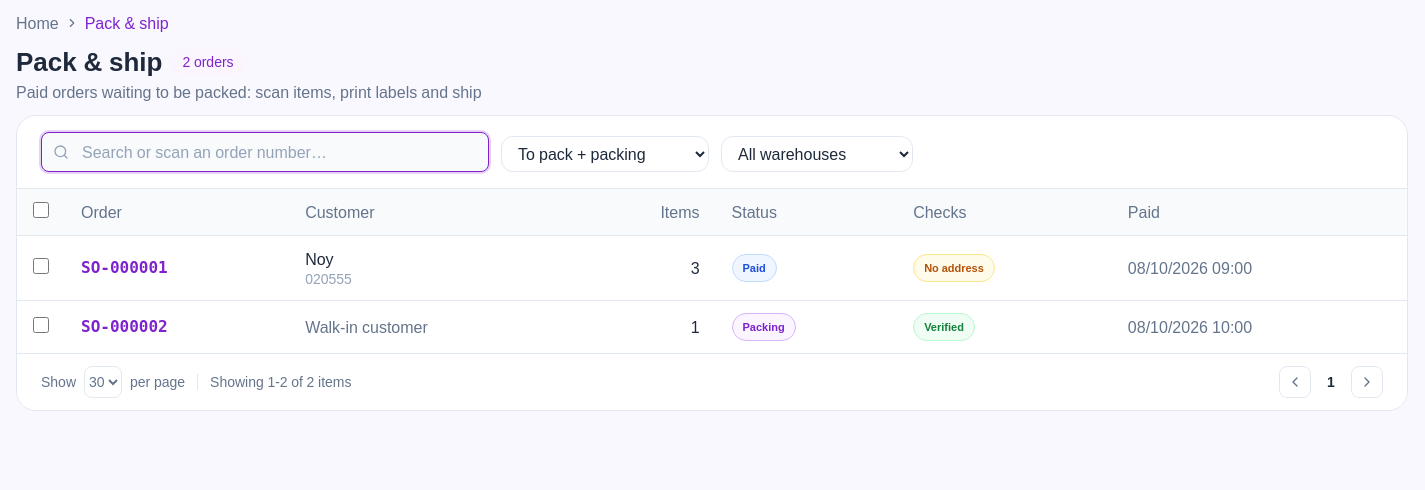
Test case: FulfillmentQueue › ຍິງເລກບິນແລ້ວ Enter: ພົບ → ໄປໜ້າແພັກ; ບໍ່ພົບ → ແຈ້ງ
This screenshot has width=1425, height=490.
Expected: the link "SO-000001" is shown, [81,258,168,277]
Type "so-000002" into the search field labelled "Search or scan an order number…".
click(265, 152); type("so-000002")  # box [41,132,489,172]
Then press Enter
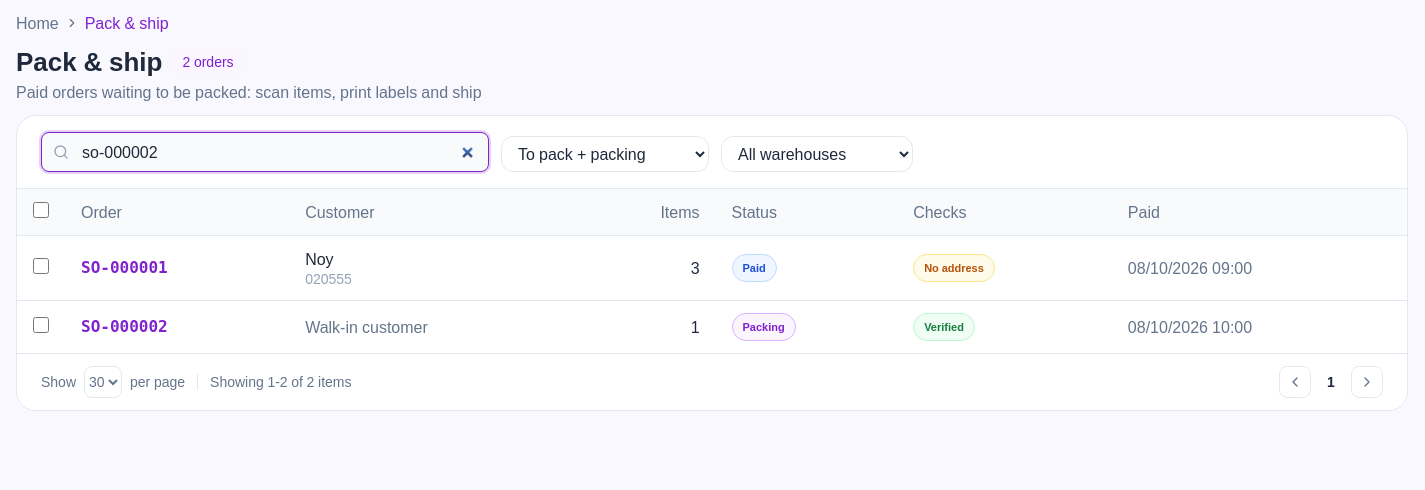
Replace the text in the search field named "Search or scan an order number…" with "SO-404" at (265,152), box [41,132,489,172]
Then press Enter
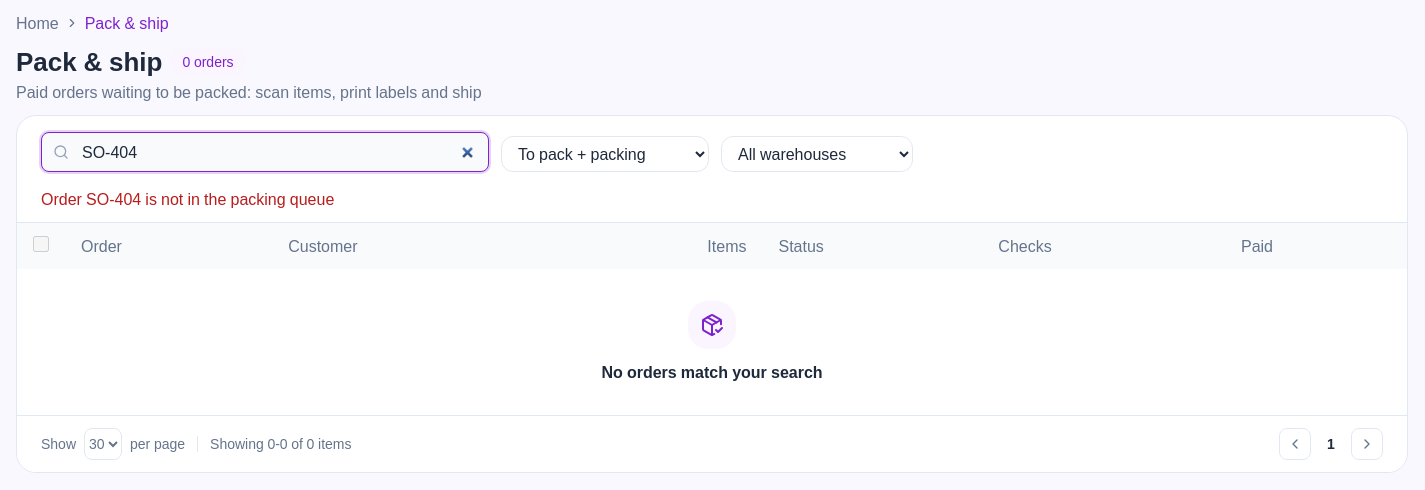
Now the text "Order SO-404 is not in the packing queue" is shown, box [41,186,334,212]
